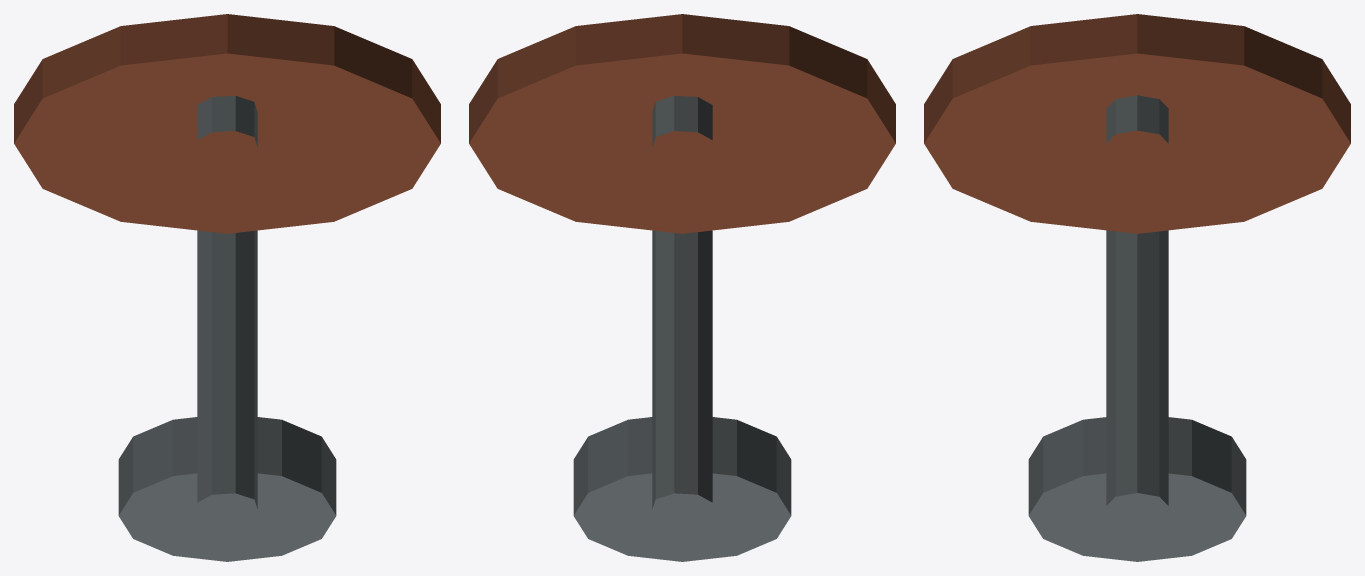
The model's file is table_pub.glb.
3 renders of one model, left to right at view 1: azimuth 30°, elevation 25°; view 2: azimuth 150°, elevation 25°; view 3: azimuth 270°, elevation 25°, orthographic.
Size of the model in its own units: 0.686 by 0.73 by 0.686.
1 material, 1 textured.
